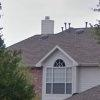Chimney: (37, 10, 58, 40)
